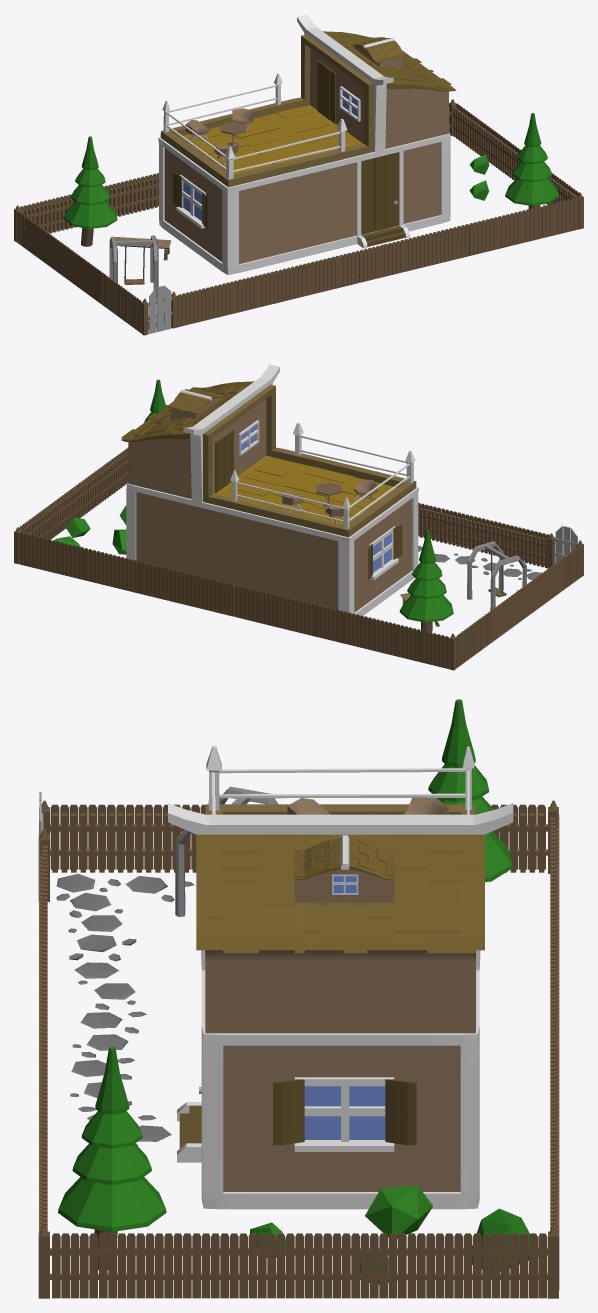
The model's file is 3lvl_brown.fbx.
3 renders of one model, top to bottom at view 1: azimuth 30°, elevation 25°; view 2: azimuth 150°, elevation 25°; view 3: azimuth 270°, elevation 25°, orthographic. The views are drawn at different scales.
Parts seen in each view (by area): view 1: brown_3lvl; view 2: brown_3lvl; view 3: brown_3lvl.
Boxes of the visible parts, x1,y1,x2,y2 form: brown_3lvl: (14,14,583,335); brown_3lvl: (14,364,583,670); brown_3lvl: (38,699,559,1298).
Size of the model in its own units: 187 by 67.37 by 95.74.
